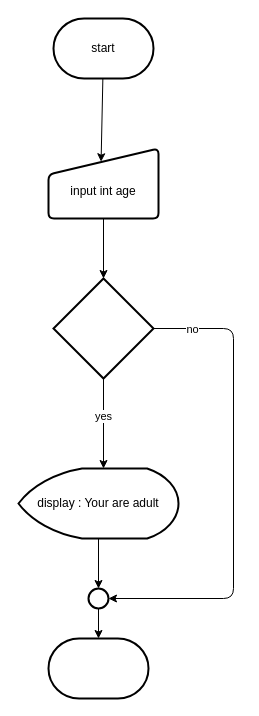
Some shapes in this 259 by 716 pixel diagram are drawn without their labels. Here are the shapes that lost their labels. From the top down, the centre of each, then its label:
At (x=103, y=328): "if age >= 18".
At (x=98, y=668): "stop".
